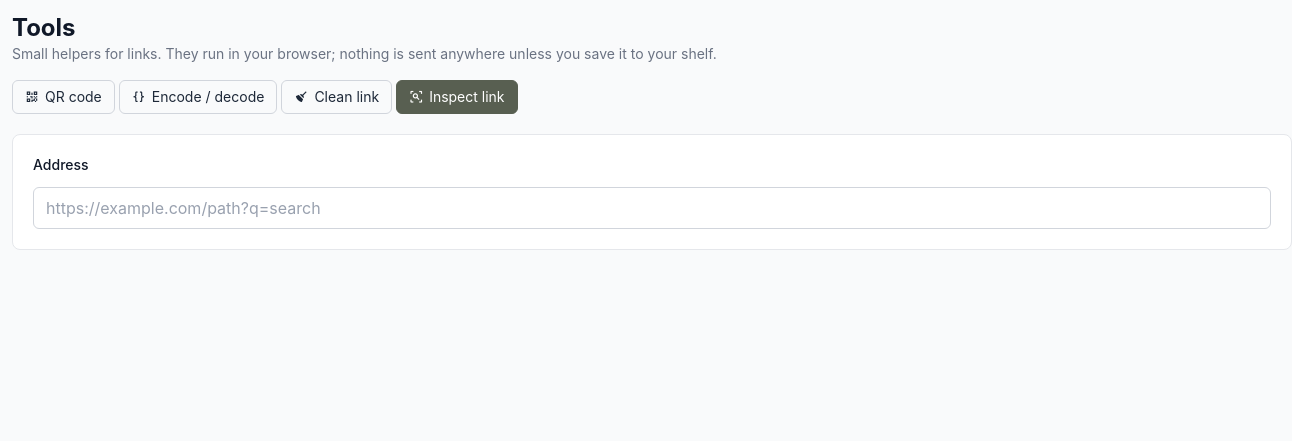
ToolsView › lists an address's parts and marks tracking parameters
The width and height of the screenshot is (1292, 441).
Type "https://x.dk/p?q=1&fbclid=z" into the field with test id "inspect-input" at [652, 208], box [33,187,1271,229]
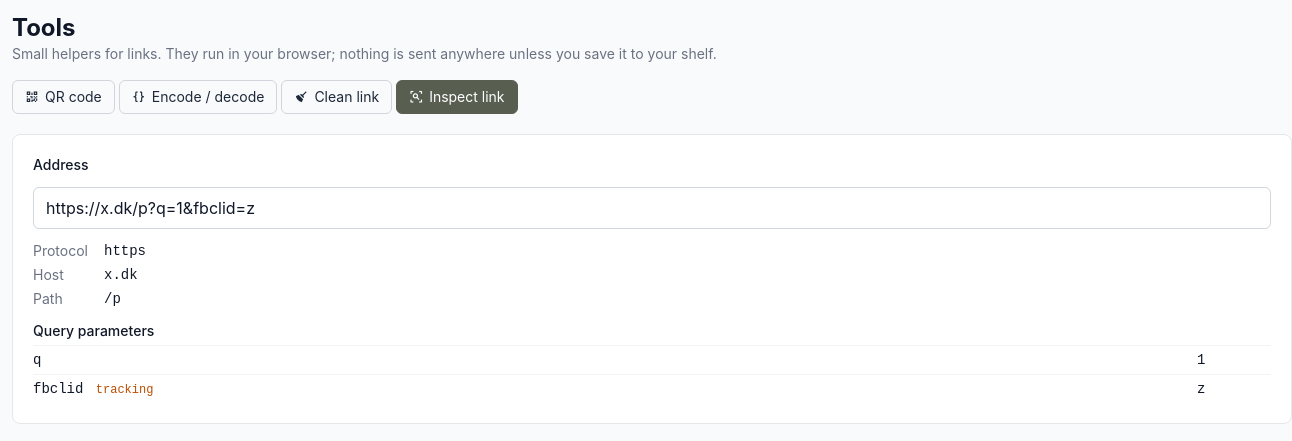
Expected: the element with test id "inspect-parts" shows "x.dk", [104,267,138,283]
